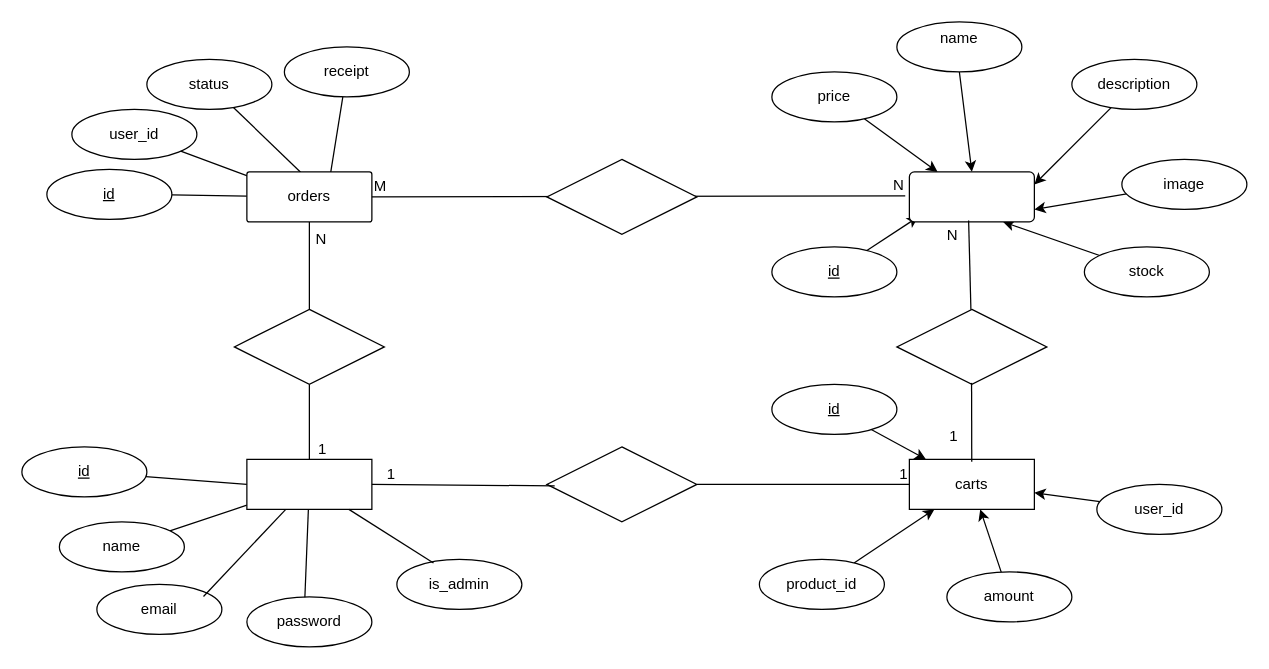
The diagram is 1269 pixels wide and 669 high, and some of its shapes have lost their labels. The shapes that lost their labels are listed below. From the top down, each one's centre as x and y in pixels, then its label:
At (x=621, y=196): "transactions".
At (x=971, y=196): "products".
At (x=308, y=346): "melakukan".
At (x=971, y=346): "Menyimpan".
At (x=309, y=483): "users".
At (x=621, y=484): "Memiliki".
